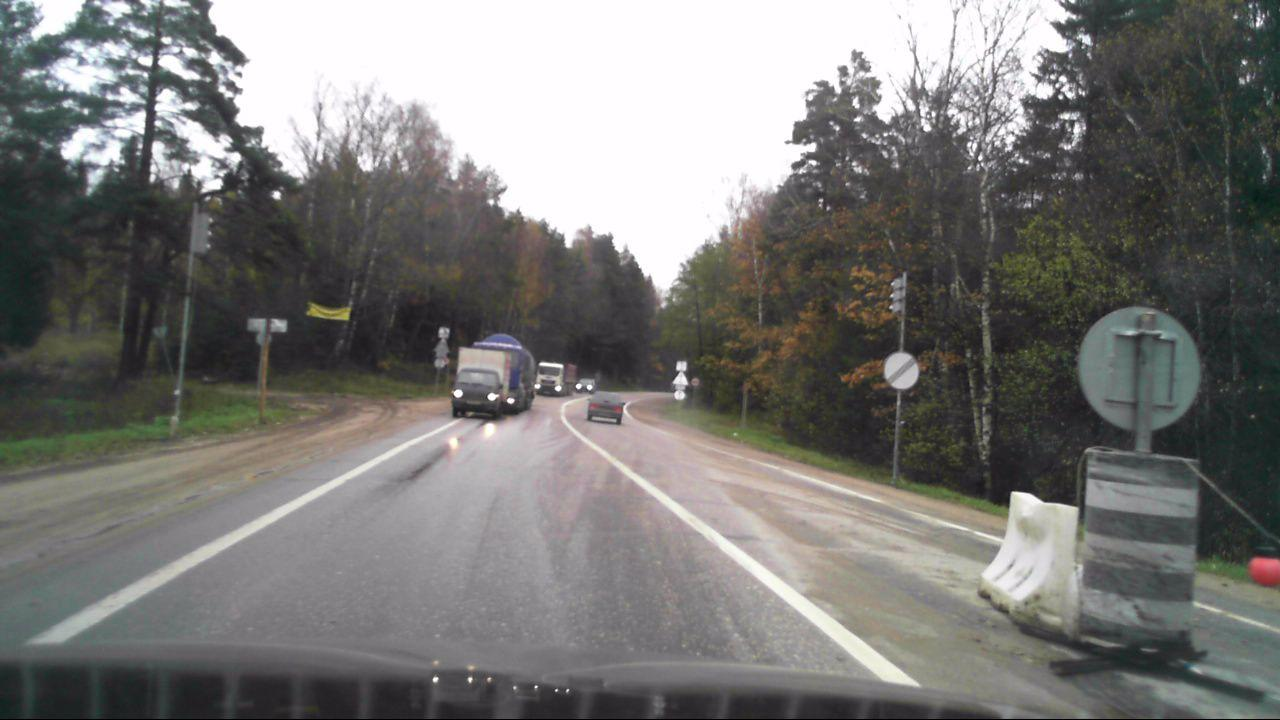3_31: (881, 350, 920, 390)
